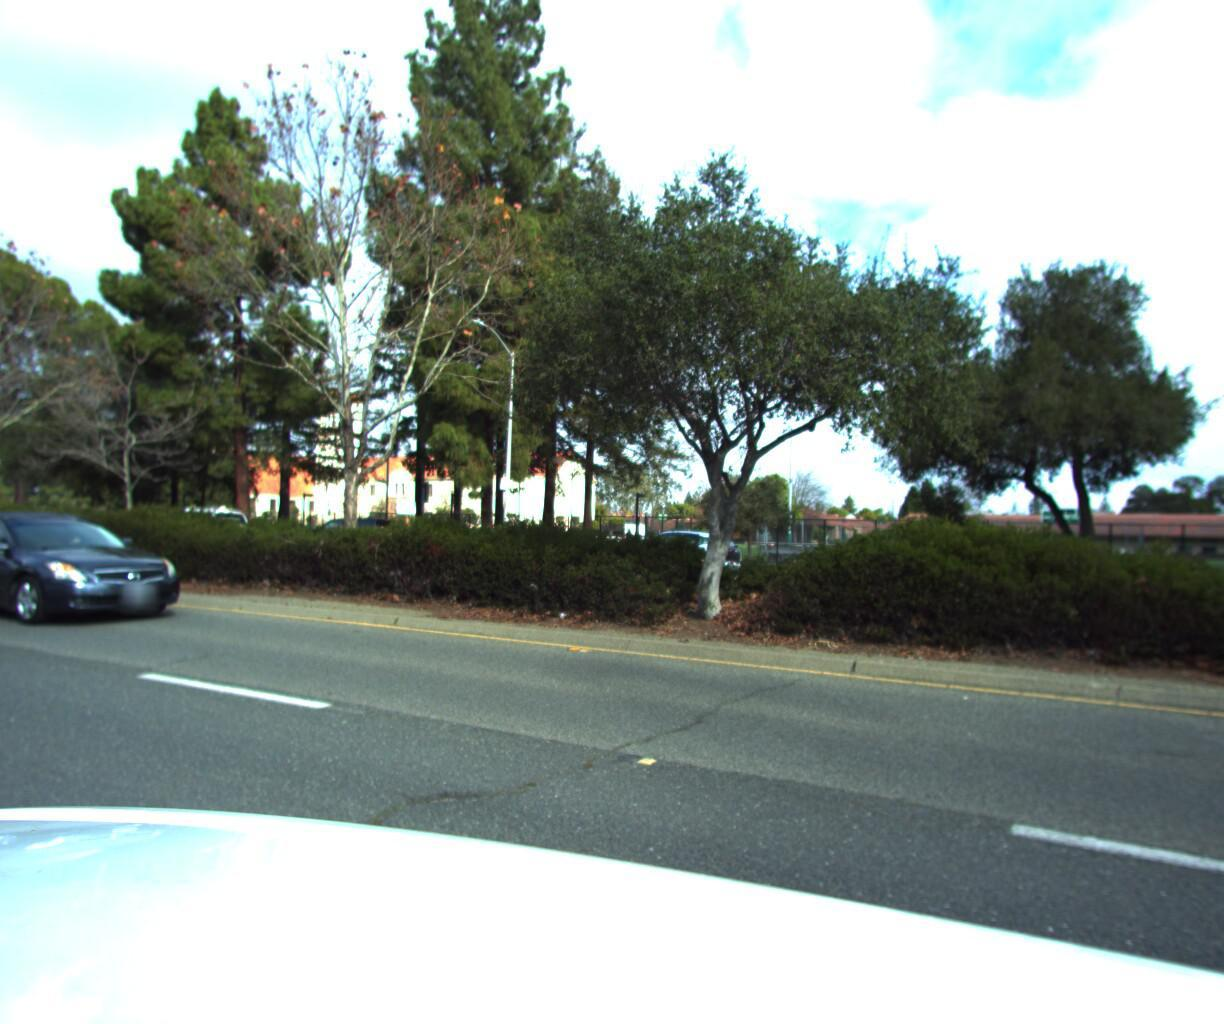car: (0, 506, 208, 636), (610, 522, 750, 582), (283, 510, 406, 565), (142, 488, 251, 534)
